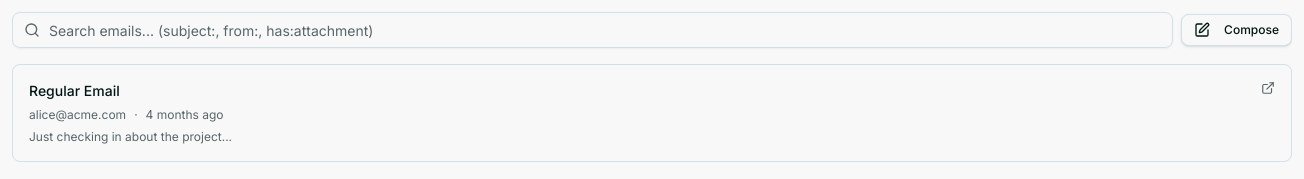
Test: EmailTab — search › clear search restores regular listing
The width and height of the screenshot is (1304, 179).
Expected: the text "Regular Email" is shown, [29,81,120,101]
Note: Type search and trigger
In the field with test id "email-search-input": (593, 30) [12,12,1173,48], type "query"
Wait 600 ms
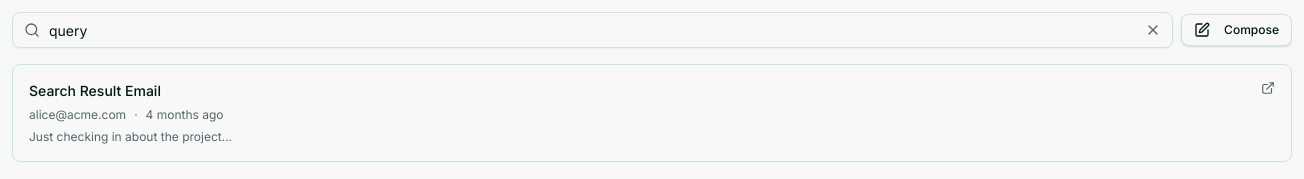
Expected: the text "Search Result Email" is shown, [29,81,161,101]
Note: Clear search
Click the button with test id "email-search-clear": (1153, 30) [1145,22,1161,38]
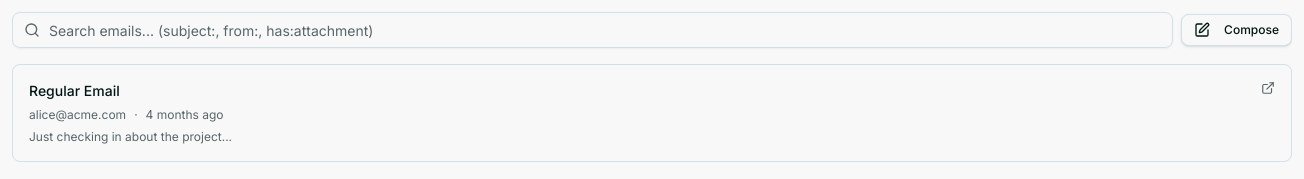
Expected: the text "Regular Email" is shown, [29,81,120,101]
